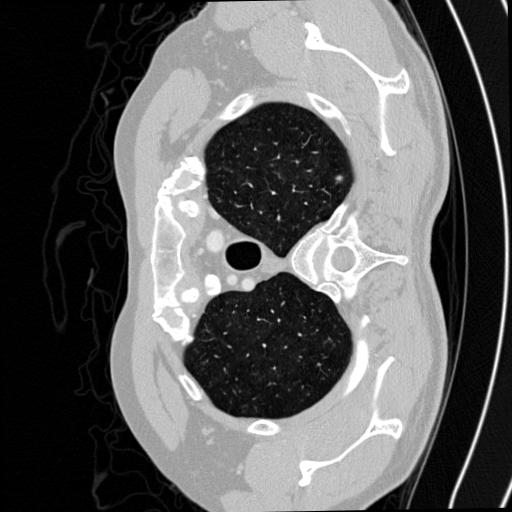nodule: (333, 171, 346, 184)
